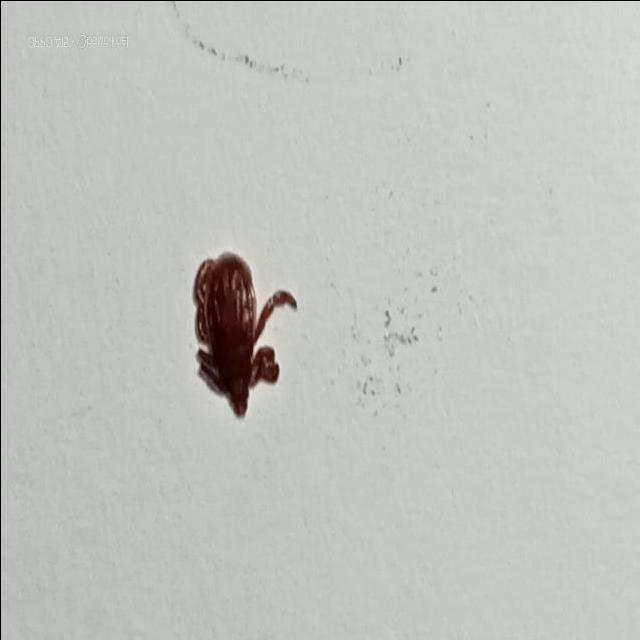Rhipicephalus Sanguineus-M: (190, 248, 297, 416)
